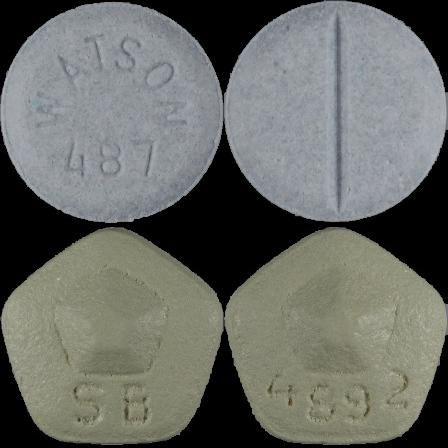63629-3755: (0, 0, 224, 224)
